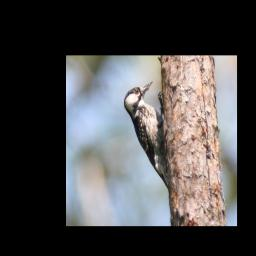Woodpecker: (123, 80, 169, 195)
